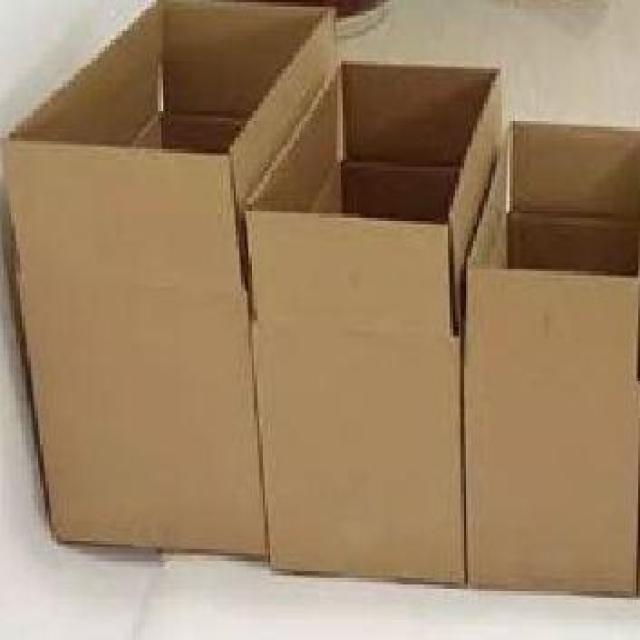cardboard: (4, 1, 468, 586), (458, 73, 640, 592)
